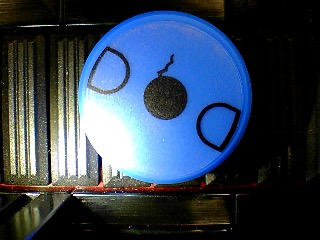CRACK: (77, 10, 254, 185)
